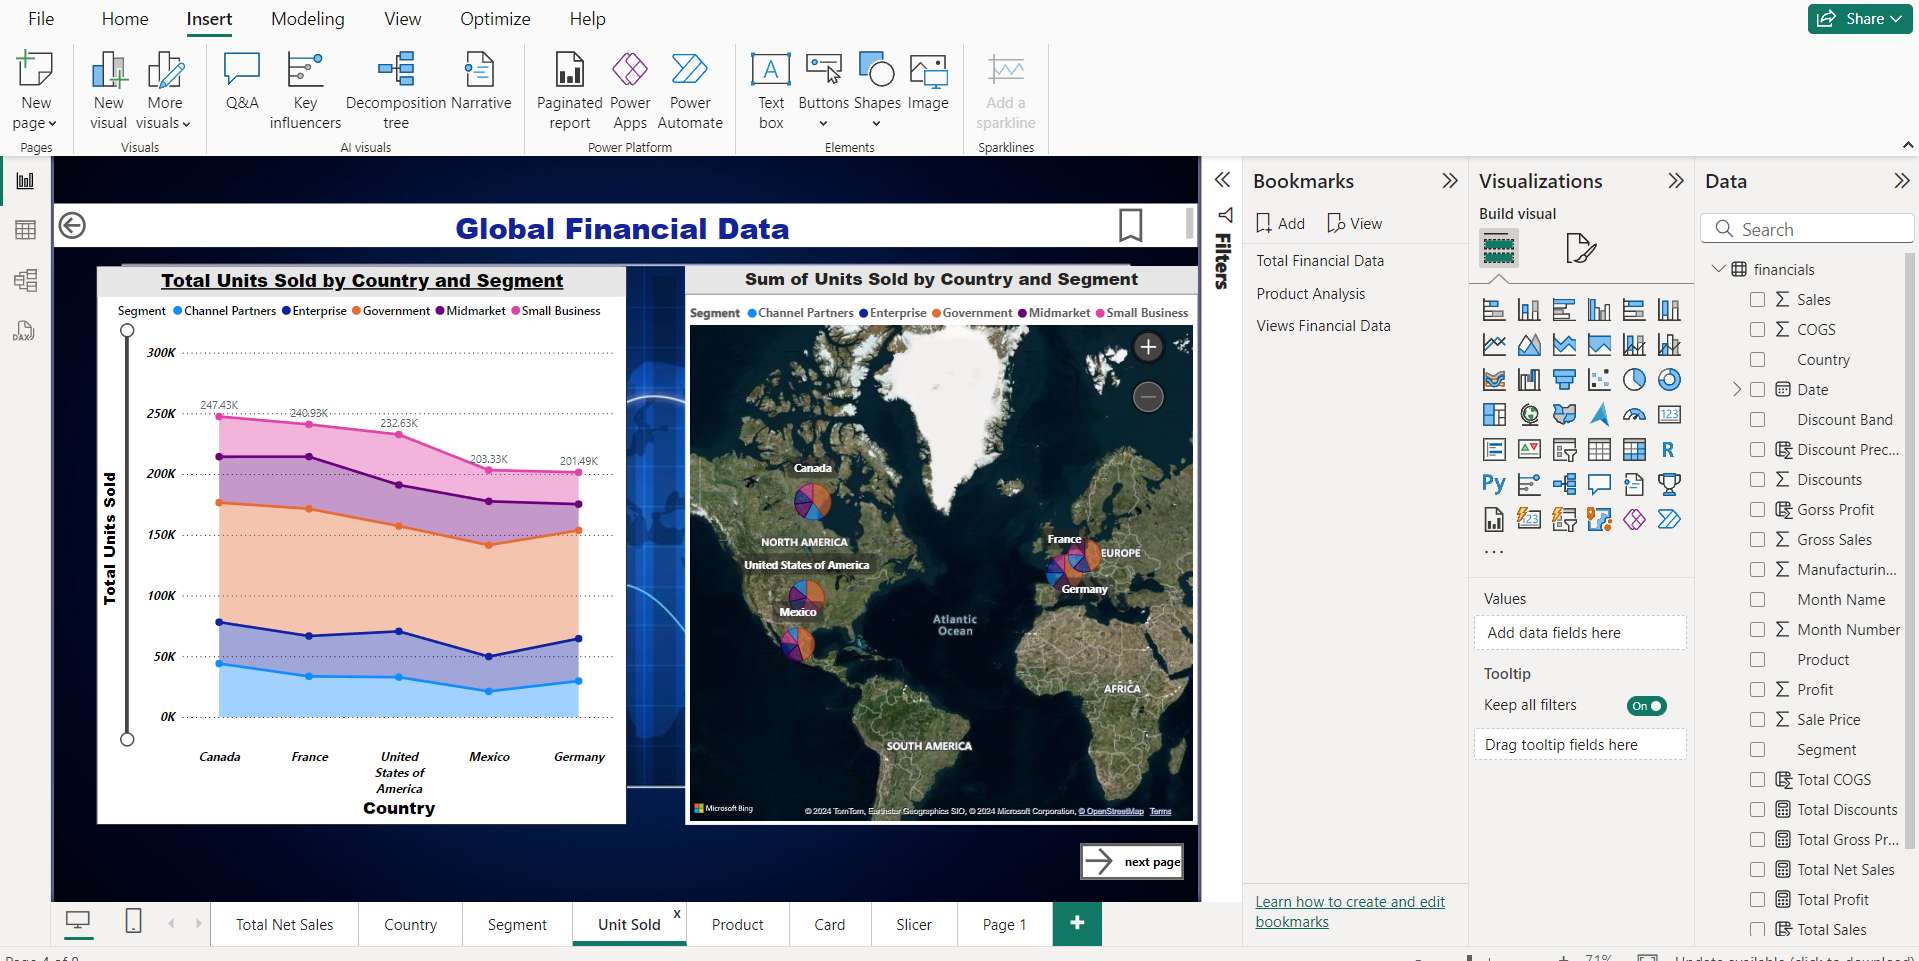

The page's visual inventory and layout, read from the dashboard file:
{"tool":"powerbi","page":{"name":"Unit Sold ","canvas":[1280,835],"ordinal":3},"visuals":[{"type":"textbox","box":[0,53.2,1280.2,49],"z":1},{"type":"stackedAreaChart","fields":{"Category":["financials.Country"],"Y":["financials.Total Units Sold"],"Series":["financials.Segment"]},"box":[47.6,123.1,593.2,625.4],"z":2},{"type":"map","fields":{"Category":["financials.Country"],"Series":["financials.Segment"],"Size":["Sum(financials.Units Sold)"]},"box":[706.6,123.1,573.6,625.4],"z":3},{"type":"actionButton","box":[1148.7,769.5,116.1,40.6],"z":4},{"type":"actionButton","box":[0,57.4,99.3,40.6],"z":6},{"type":"actionButton","box":[1180.9,53.2,99.3,49],"z":7}]}

Visuals, with their boxes on the page's 1280x835 design canvas (x1, y1, x2, y2). These are canvas units, not pixel positions in the 1919x961 screenshot, which may show the page scaled, cropped or inside an application window:
textbox: <bbox>0, 53, 1280, 102</bbox>
stackedAreaChart - financials.Country x financials.Total Units Sold: <bbox>48, 123, 641, 748</bbox>
map - financials.Country x financials.Segment: <bbox>707, 123, 1280, 748</bbox>
actionButton: <bbox>1149, 770, 1265, 810</bbox>
actionButton: <bbox>0, 57, 99, 98</bbox>
actionButton: <bbox>1181, 53, 1280, 102</bbox>
